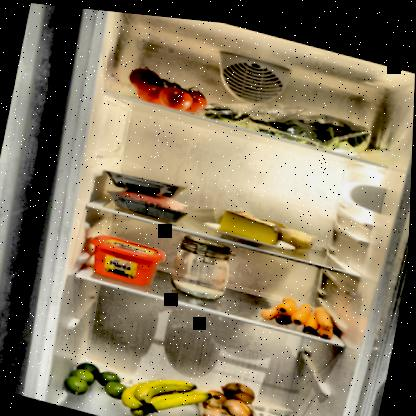banana: (119, 361, 218, 415)
butter: (84, 227, 169, 288)
carrot: (259, 282, 346, 336)
cheese: (215, 201, 288, 244)
green_beans: (194, 90, 270, 129)
ground_beef: (104, 178, 195, 223)
lime: (64, 354, 138, 406)
onion: (191, 366, 266, 415)
potato: (265, 212, 322, 250)
spinach: (257, 91, 379, 156)
tomato: (121, 59, 215, 116)
